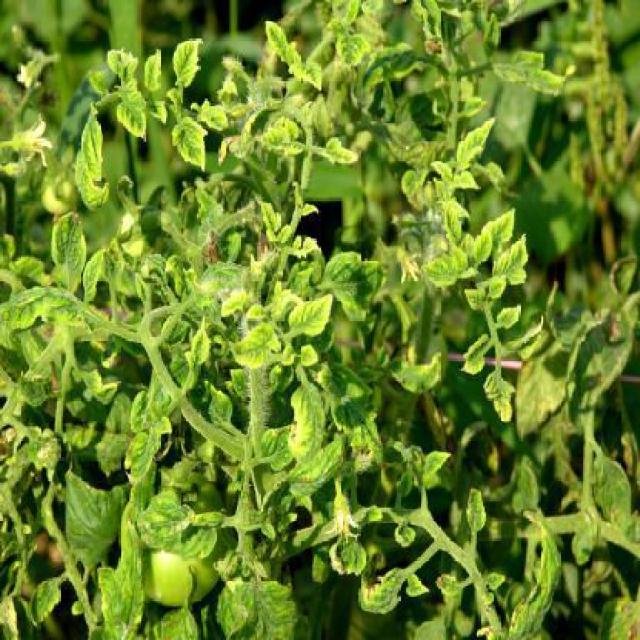Healthy Leaf: (112, 488, 232, 569), (505, 528, 580, 638), (88, 531, 148, 638), (318, 249, 400, 320), (224, 306, 302, 377), (289, 426, 354, 505), (119, 406, 168, 508), (72, 111, 111, 217), (352, 556, 414, 622), (483, 237, 532, 314), (108, 68, 152, 150), (284, 280, 338, 345), (286, 382, 326, 463), (171, 110, 214, 184), (49, 210, 88, 288), (163, 26, 206, 92), (474, 369, 518, 431), (449, 114, 497, 169), (255, 114, 312, 152), (334, 28, 380, 75), (322, 136, 364, 178), (480, 208, 515, 246), (294, 58, 324, 100)
